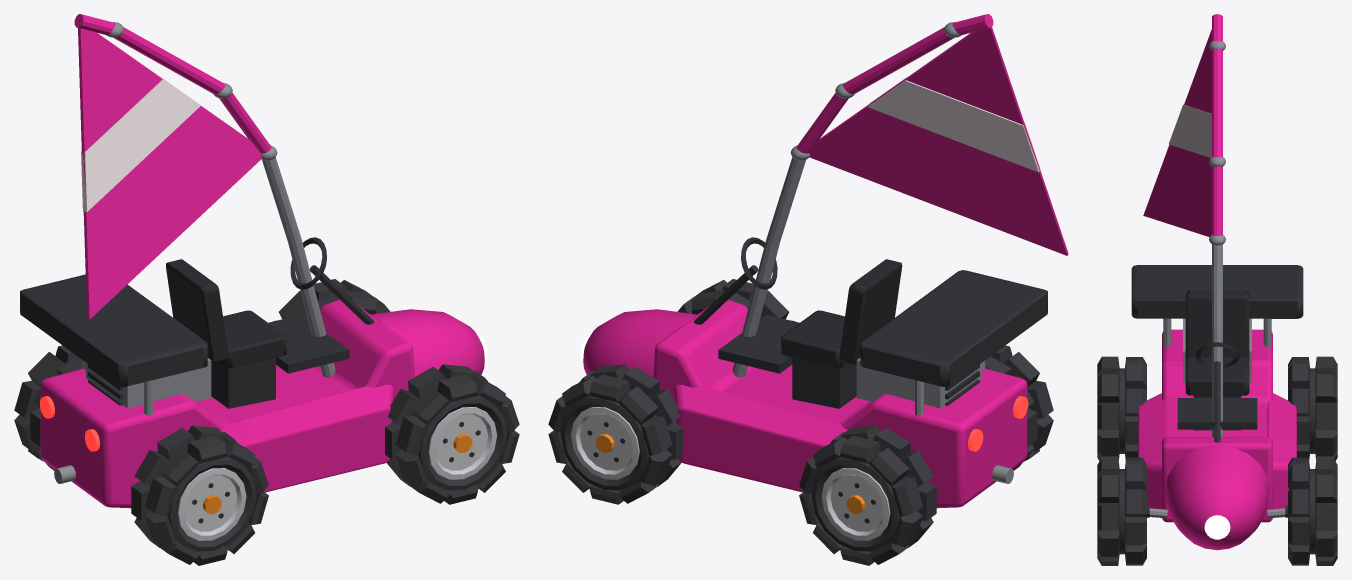
File: kite.glb
The picture shows the model from 3 angles, left to right: view 1: azimuth 30°, elevation 25°; view 2: azimuth 150°, elevation 25°; view 3: azimuth 270°, elevation 25°; orthographic projection. The views are drawn at different scales.
Visible parts, largest first — view 1: body, wheel_rear, wheel_front; view 2: body, wheel_rear, wheel_front; view 3: body, wheel_front, wheel_rear.
Part boxes in pixels (x1,y1,x2,y2): body: (20,14,487,508); wheel_rear: (14,345,268,565); wheel_front: (273,279,519,504); body: (580,14,1068,508); wheel_rear: (799,345,1053,565); wheel_front: (548,279,794,504); body: (1131,14,1303,550); wheel_front: (1097,457,1337,565); wheel_rear: (1097,356,1337,460).
Bounding box in the file's own units: 3.16 × 3.52 × 1.81.
